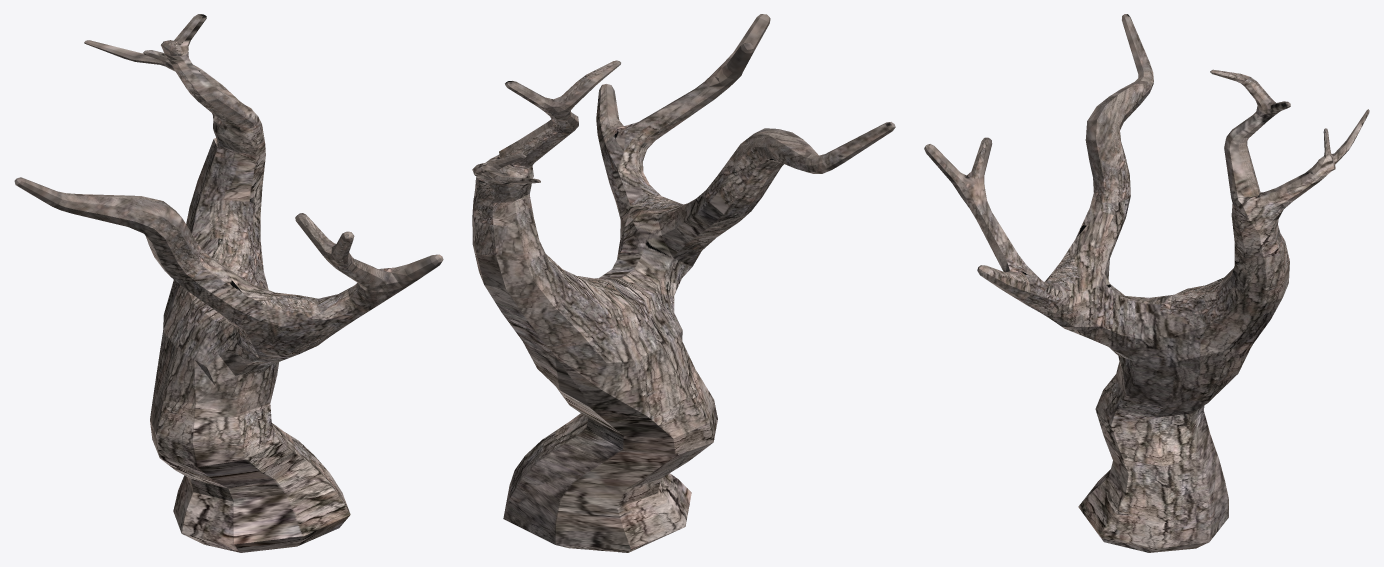
Rendered from bush3.obj.
The picture shows the model from 3 angles, left to right: view 1: azimuth 30°, elevation 25°; view 2: azimuth 150°, elevation 25°; view 3: azimuth 270°, elevation 25°; orthographic projection. The views are drawn at different scales.
Visible parts, largest first — view 1: Bush3_Cube.008; view 2: Bush3_Cube.008; view 3: Bush3_Cube.008.
Boxes of the visible parts, left/top/right/bottom form: Bush3_Cube.008: left=14, top=14, right=443, bottom=552; Bush3_Cube.008: left=472, top=14, right=895, bottom=552; Bush3_Cube.008: left=924, top=14, right=1369, bottom=552.
Size of the model in its own units: 2.27 by 2.9 by 2.69.
